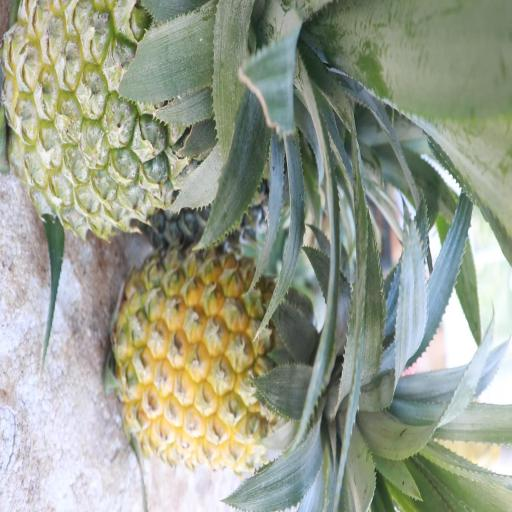------------------------------: (8, 0, 299, 236)
Pineapple - v8 v1: (118, 255, 359, 469)
